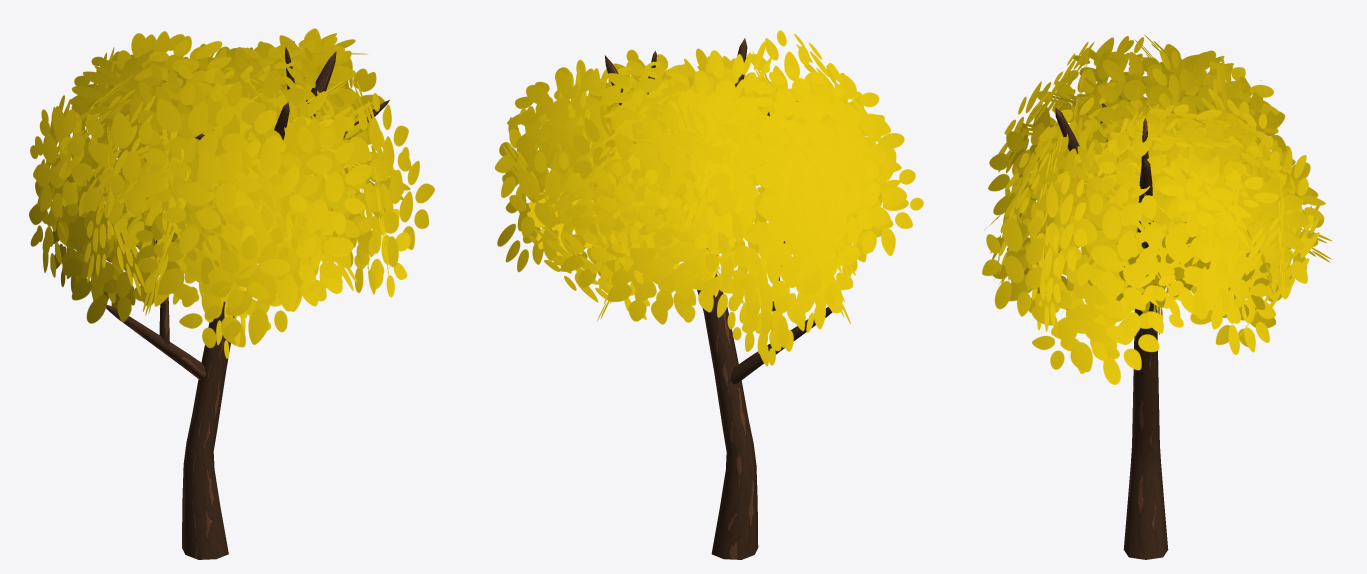
File: maple_tree2.gltf
3 renders of one model, left to right at view 1: azimuth 30°, elevation 25°; view 2: azimuth 150°, elevation 25°; view 3: azimuth 270°, elevation 25°, orthographic. The views are drawn at different scales.
Visible parts, largest first — view 1: MapleTree_2; view 2: MapleTree_2; view 3: MapleTree_2.
Part boxes in pixels (x1=…): MapleTree_2: x1=29, y1=28, x2=434, y2=559; MapleTree_2: x1=494, y1=30, x2=923, y2=559; MapleTree_2: x1=982, y1=34, x2=1331, y2=559.
Bounding box in the file's own units: 3.42 × 4.44 × 3.01.
2 materials, 2 textured.
